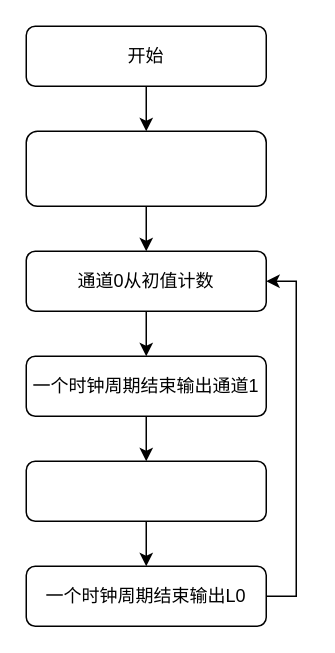
The diagram is 335 pixels wide and 653 high, and some of its shapes have lost their labels. Each missing label, with the centre of its shape:
"设置控制字 （通道0 方式2 读写 BCD） （通道1 方式3 读写 BCD）" belongs at (x=145, y=168).
"通道1从初值计数" belongs at (x=145, y=490).
